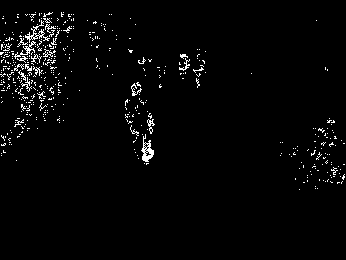person: (121, 81, 156, 166)
